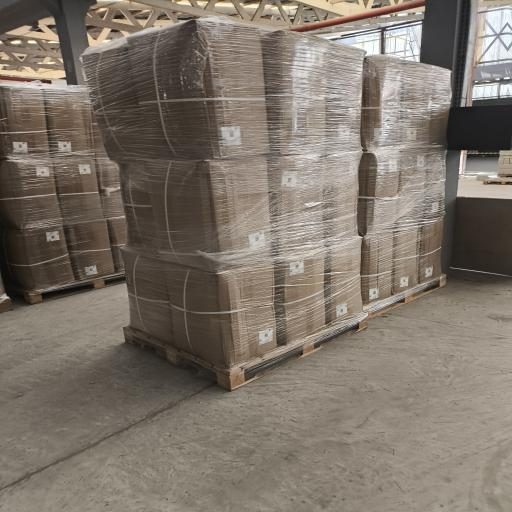pallet: (124, 320, 367, 390), (9, 272, 124, 304), (365, 275, 446, 319), (0, 298, 13, 313), (484, 178, 511, 184), (497, 173, 511, 177)
